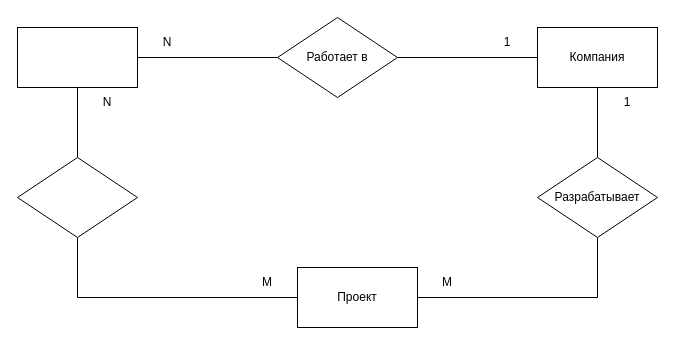
This 675x345 diagram has some shape labels left out. Here are the shapes that lost their labels. From the top down, the centre of each, then its label:
the point at 77,57: Сотрудник
the point at 77,197: Работает над
